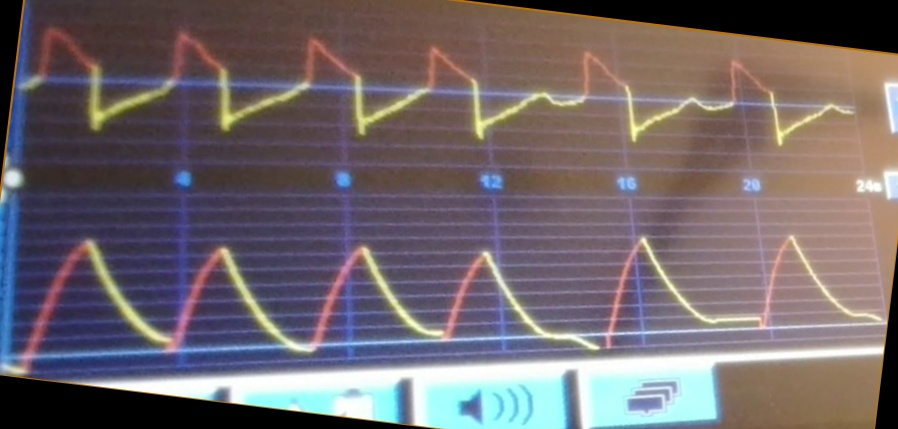Ineffective_effort Flow: (26, 21, 857, 158)
Ineffective_effort Volume: (14, 215, 879, 361)
